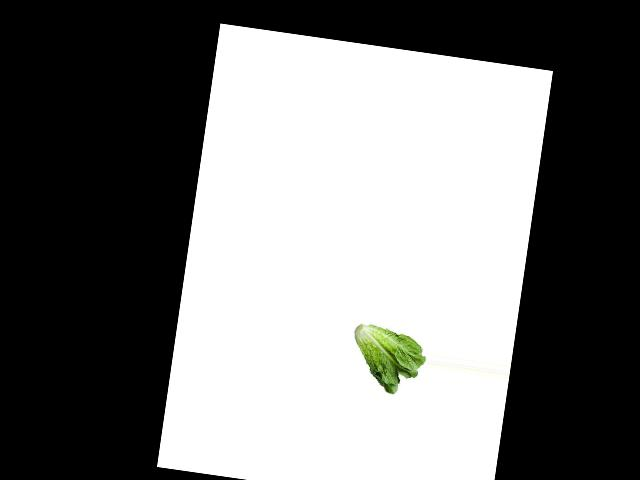lettuce: (346, 320, 431, 400)
